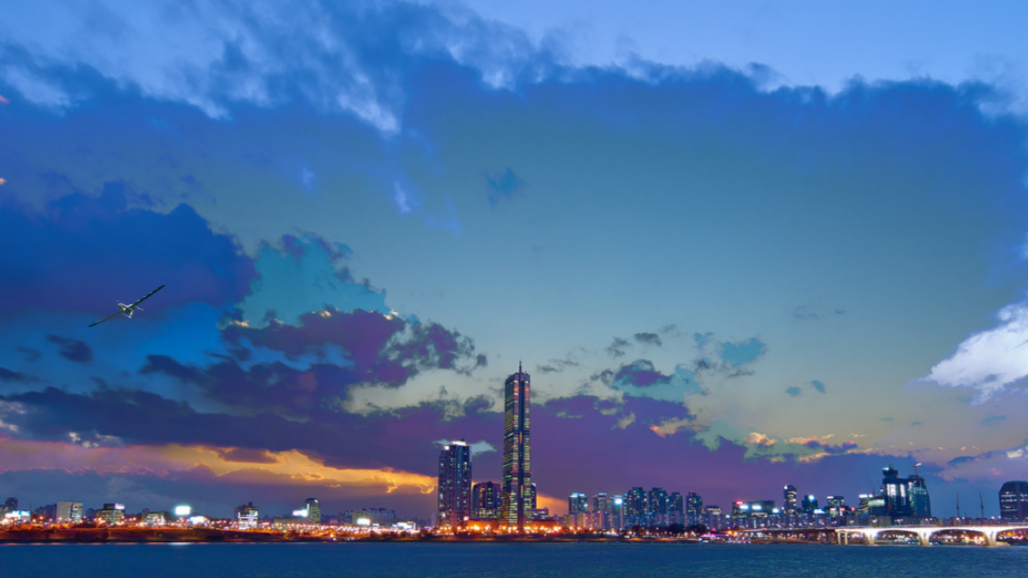military drone: (87, 284, 165, 327)
